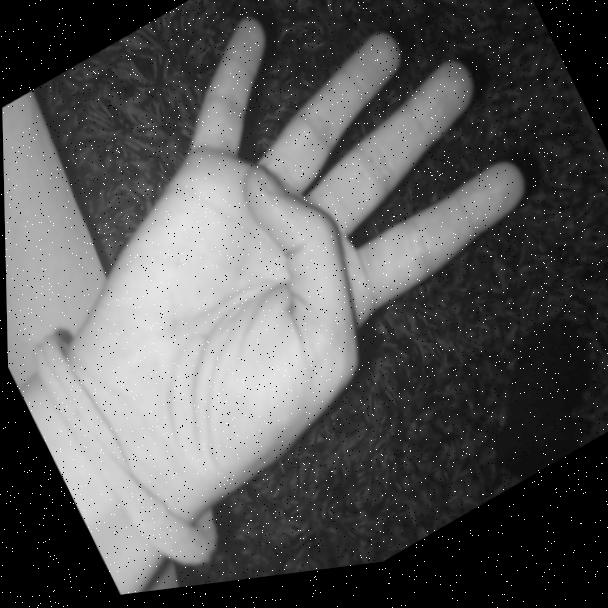four: (0, 0, 565, 520)
